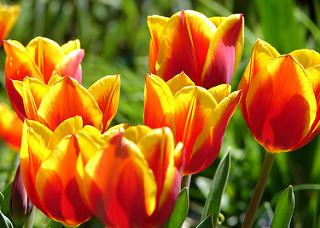tulip: (20, 117, 114, 228), (144, 72, 243, 175), (78, 124, 176, 228), (239, 37, 320, 154), (147, 9, 244, 92)
